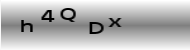4: (39, 8, 55, 23)
D: (88, 21, 104, 35)
Q: (59, 7, 77, 23)
h: (20, 19, 33, 33)
x: (107, 18, 122, 28)
